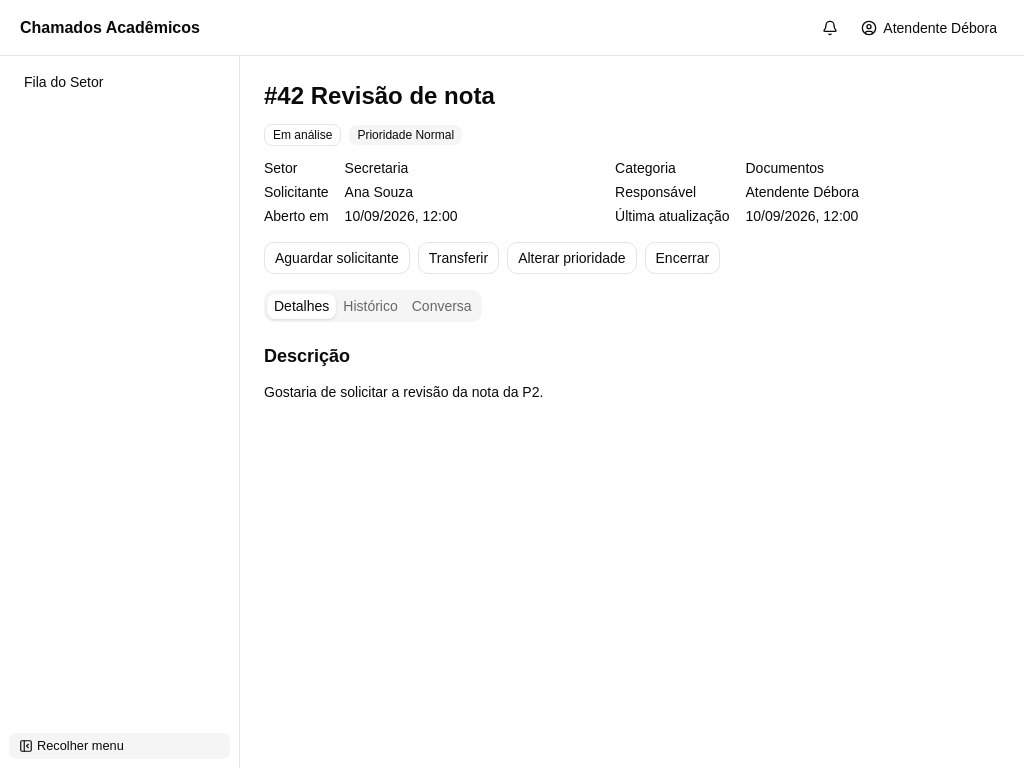
Test: TransferDialog (BR9.7, US2.4) › transfers with the destination and the justification, and closes the dialog
Expected: the heading "#42 Revisão de nota" is shown, top-left (264, 82), bottom-right (495, 109)
Click the button with test id "ticket-actions-transfer-button".
click(458, 258)  # box top-left (418, 242), bottom-right (499, 274)
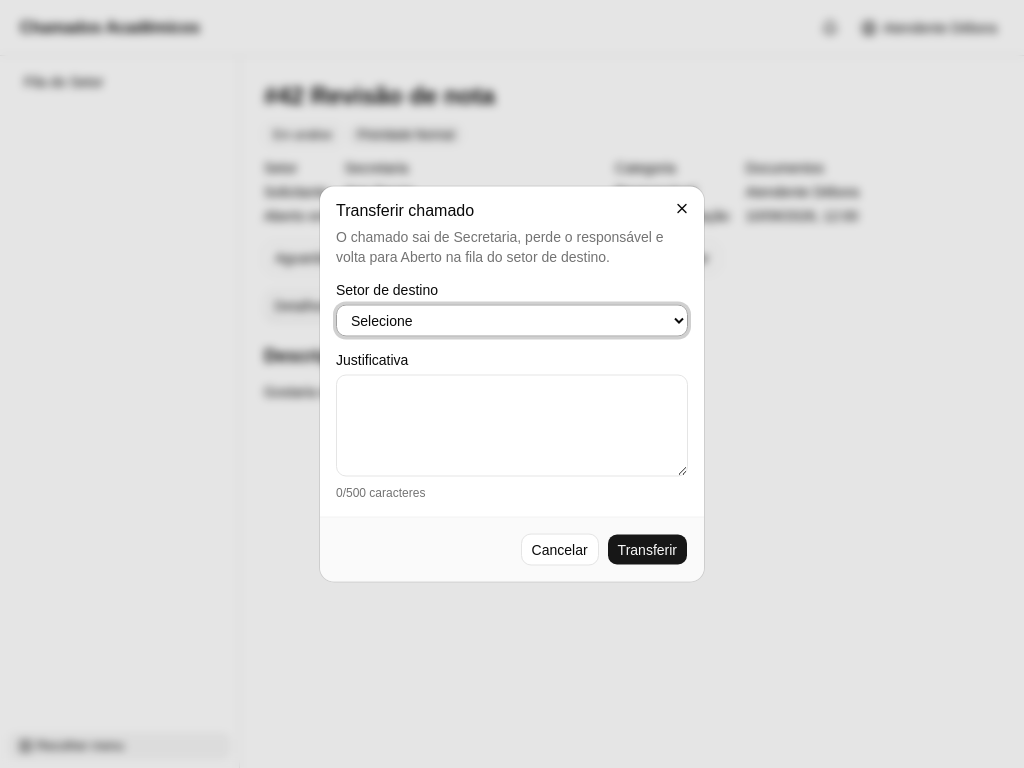
Select "Financeiro" in the dropdown labelled "Setor de destino" at coordinates (512, 320), box top-left (336, 304), bottom-right (688, 336)
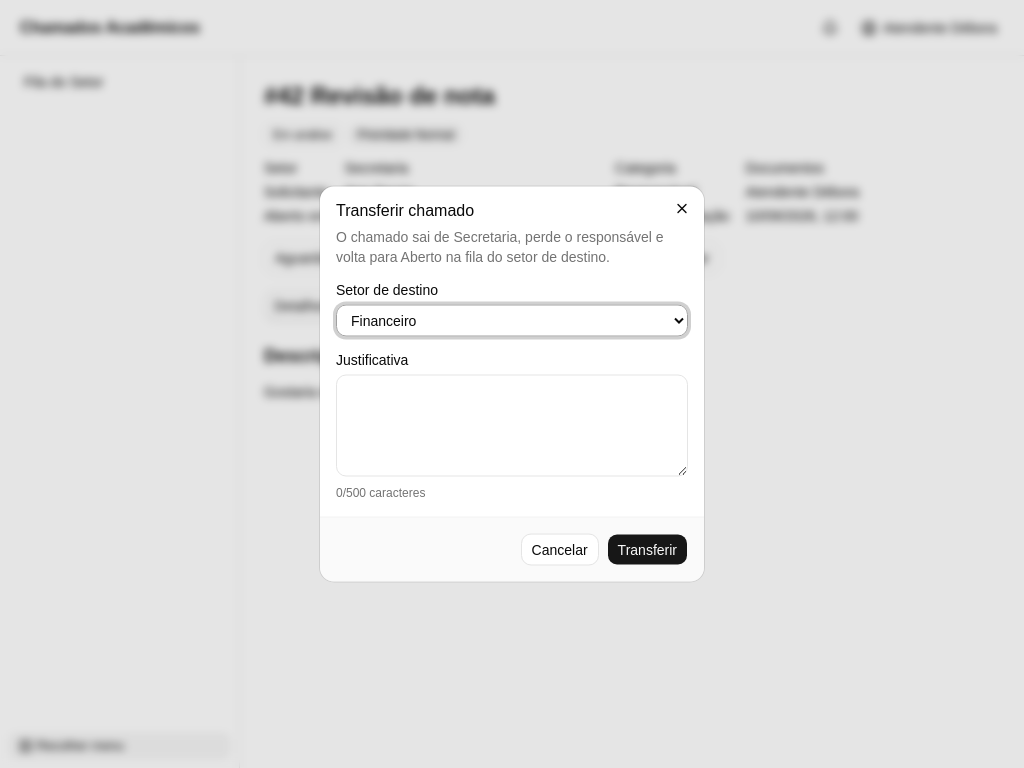
Type "Assunto do Financeiro, fora do alcance da Secretaria." into the text box labelled "Justificativa".
click(512, 426); type("Assunto do Financeiro, fora do alcance da Secretaria.")  # box top-left (336, 374), bottom-right (688, 476)
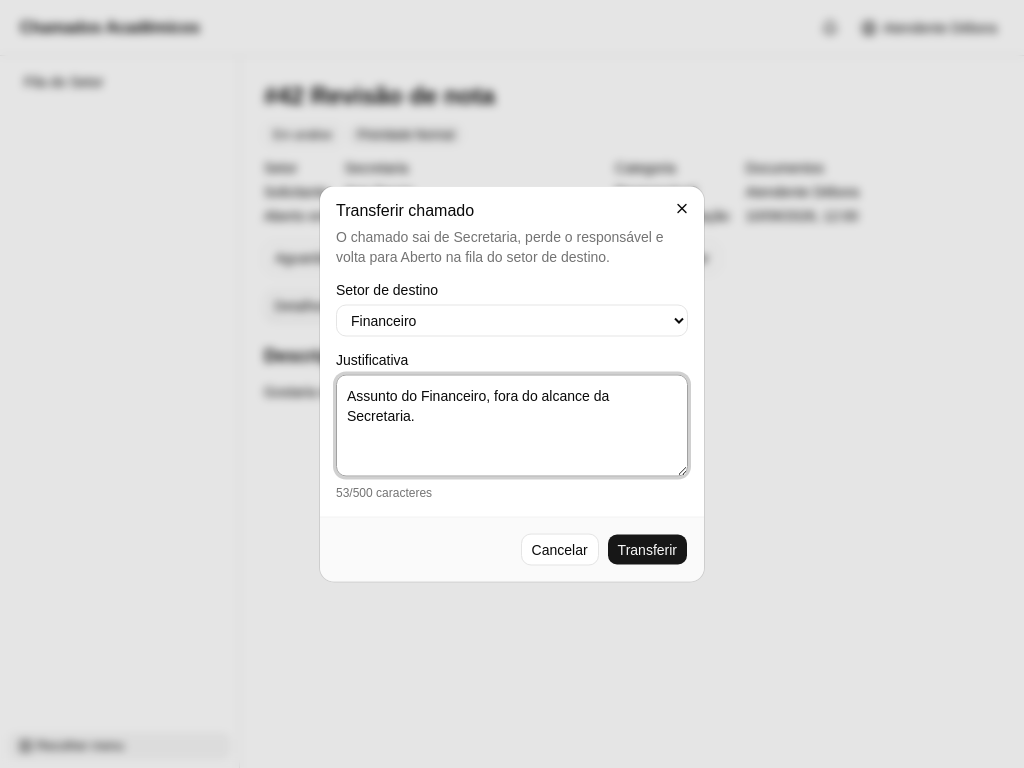
Click the button "Transferir".
click(647, 550)  # box top-left (607, 534), bottom-right (688, 566)
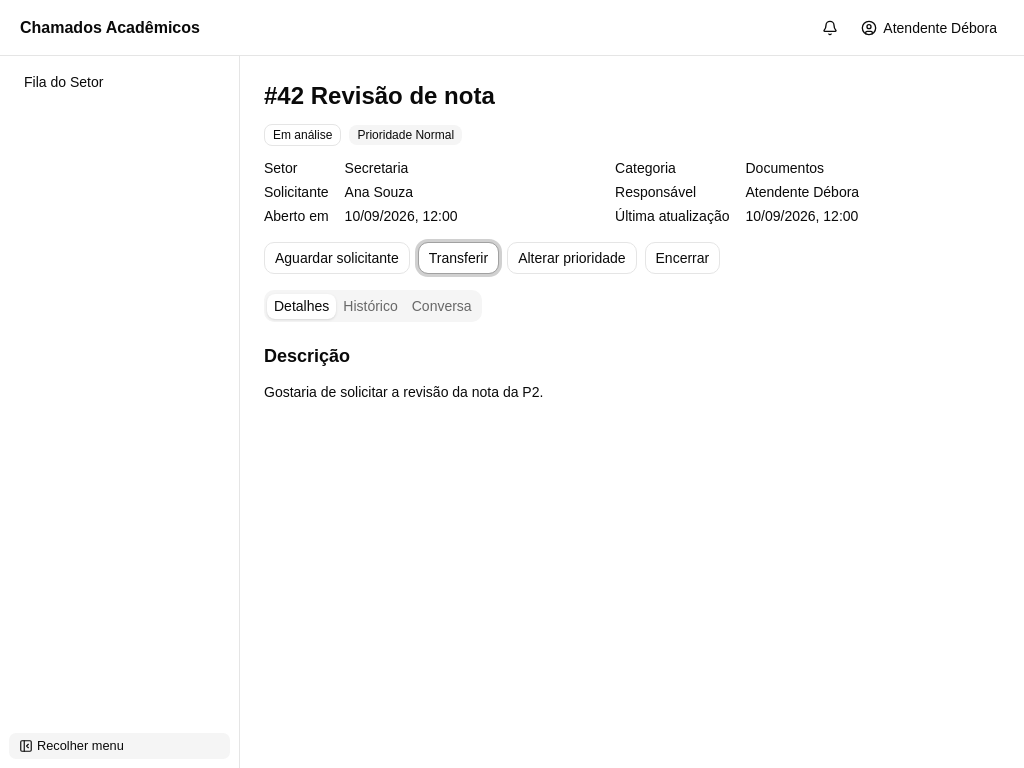
Now the dialog is gone
